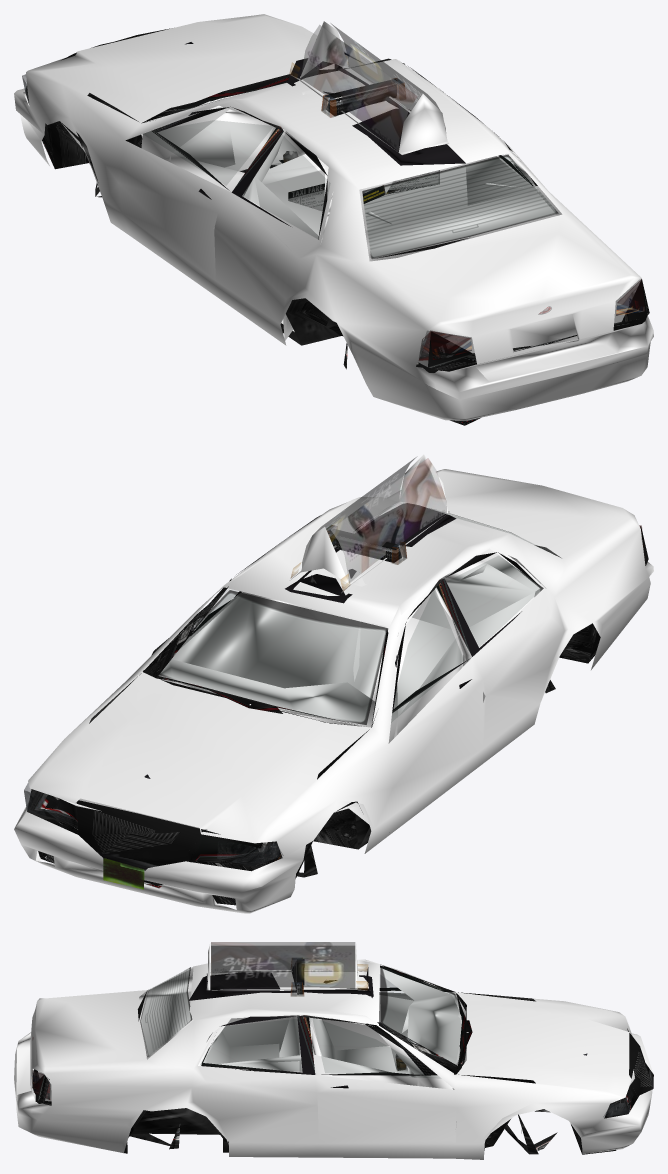
File: taxi-lod.glb
The picture shows the model from 3 angles, top to bottom: view 1: azimuth 30°, elevation 25°; view 2: azimuth 150°, elevation 25°; view 3: azimuth 270°, elevation 25°; orthographic projection. The views are drawn at different scales.
Bounding box in the file's own units: 1.98 × 1.62 × 5.4.
Materials: 13 (12 with a texture image).
